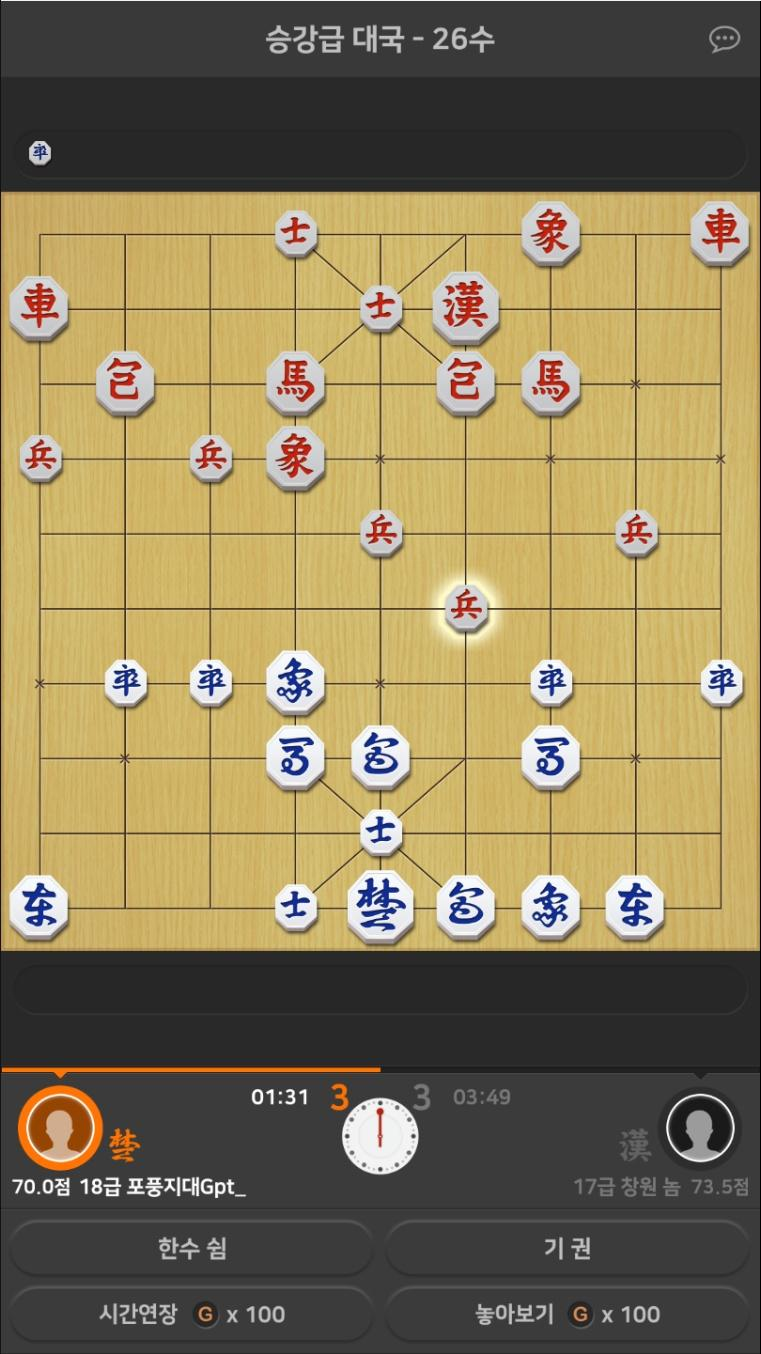cha_green: (602, 878, 664, 937), (12, 877, 68, 934)
cha_red: (12, 276, 68, 341), (693, 204, 749, 264)
jol_green: (103, 659, 148, 706), (190, 657, 230, 708), (531, 658, 573, 706), (703, 659, 742, 709), (252, 1086, 264, 1103)
jol_red: (445, 583, 490, 633), (191, 435, 232, 485), (21, 435, 62, 485), (360, 509, 399, 557), (615, 510, 655, 556)
ma_green: (268, 725, 327, 789), (524, 726, 582, 790)
ma_red: (268, 354, 323, 419), (522, 354, 576, 418)
po_green: (353, 726, 410, 790), (438, 877, 494, 942)
po_red: (438, 349, 494, 415), (96, 355, 150, 420)
sa_green: (272, 884, 317, 932), (362, 811, 404, 853)
sa_red: (361, 285, 402, 333), (276, 209, 316, 257)
sang_green: (522, 876, 581, 938), (269, 651, 324, 715)
sang_red: (266, 426, 320, 492), (525, 202, 577, 262)
wang_green: (346, 868, 412, 940)
wang_red: (431, 273, 500, 340)
